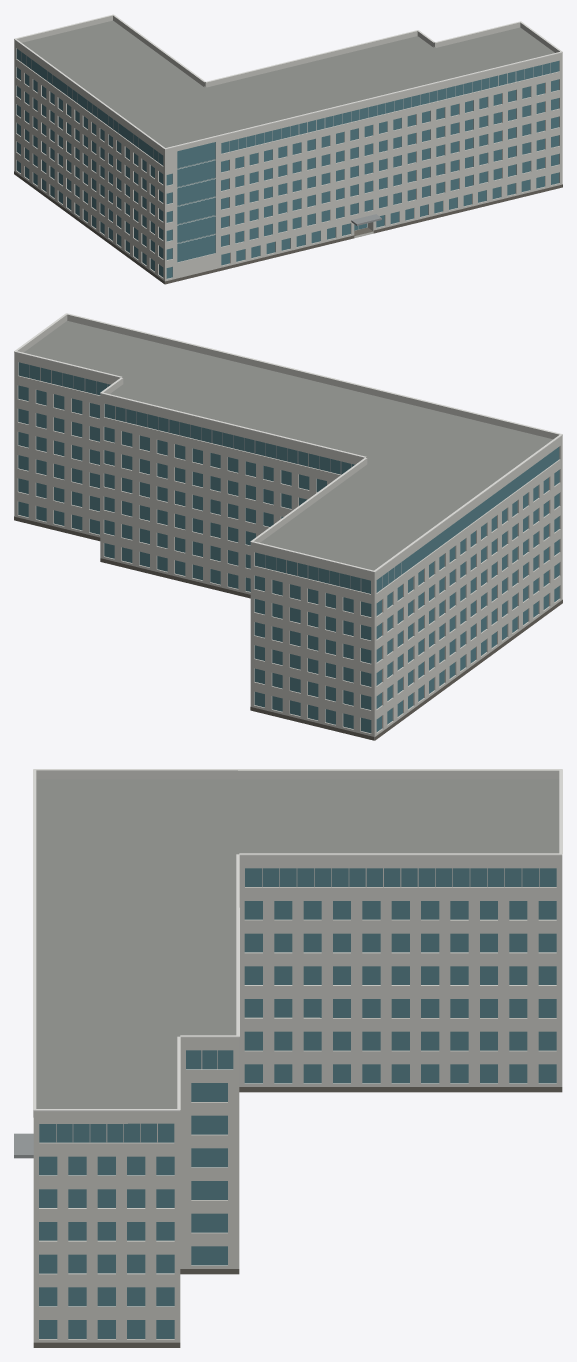
3 views of the same model, one above another, from view 1: azimuth 30°, elevation 25°; view 2: azimuth 150°, elevation 25°; view 3: azimuth 270°, elevation 25° (orthographic). The views are drawn at different scales.
Parts seen in each view (by area): view 1: sangheoResearch__wall, sangheoResearch__glass, sangheoResearch__roof, sangheoResearch__parapet, sangheoResearch__trim, sangheoResearch__base, sangheoResearch__frame; view 2: sangheoResearch__wall, sangheoResearch__roof, sangheoResearch__glass, sangheoResearch__parapet, sangheoResearch__trim, sangheoResearch__base, sangheoResearch__frame; view 3: sangheoResearch__roof, sangheoResearch__wall, sangheoResearch__glass, sangheoResearch__parapet, sangheoResearch__trim, sangheoResearch__base, sangheoResearch__frame.
Part boxes in pixels (left/top/right/bottom): sangheoResearch__wall: left=14, top=44, right=562, bottom=283; sangheoResearch__glass: left=16, top=49, right=559, bottom=278; sangheoResearch__roof: left=22, top=20, right=554, bottom=236; sangheoResearch__parapet: left=14, top=15, right=562, bottom=153; sangheoResearch__trim: left=14, top=14, right=562, bottom=149; sangheoResearch__base: left=14, top=171, right=562, bottom=284; sangheoResearch__frame: left=21, top=52, right=550, bottom=243; sangheoResearch__wall: left=14, top=358, right=562, bottom=740; sangheoResearch__roof: left=24, top=321, right=552, bottom=570; sangheoResearch__glass: left=18, top=362, right=559, bottom=733; sangheoResearch__parapet: left=14, top=314, right=562, bottom=577; sangheoResearch__trim: left=14, top=313, right=562, bottom=572; sangheoResearch__base: left=14, top=516, right=562, bottom=740; sangheoResearch__frame: left=29, top=365, right=401, bottom=591; sangheoResearch__roof: left=36, top=779, right=559, bottom=1108; sangheoResearch__wall: left=33, top=863, right=562, bottom=1342; sangheoResearch__glass: left=39, top=868, right=556, bottom=1338; sangheoResearch__parapet: left=33, top=770, right=562, bottom=1118; sangheoResearch__trim: left=33, top=769, right=562, bottom=1111; sangheoResearch__base: left=33, top=1087, right=562, bottom=1347; sangheoResearch__frame: left=56, top=868, right=539, bottom=1142.
Size of the model in its own units: 82.84 by 26.92 by 56.31.
